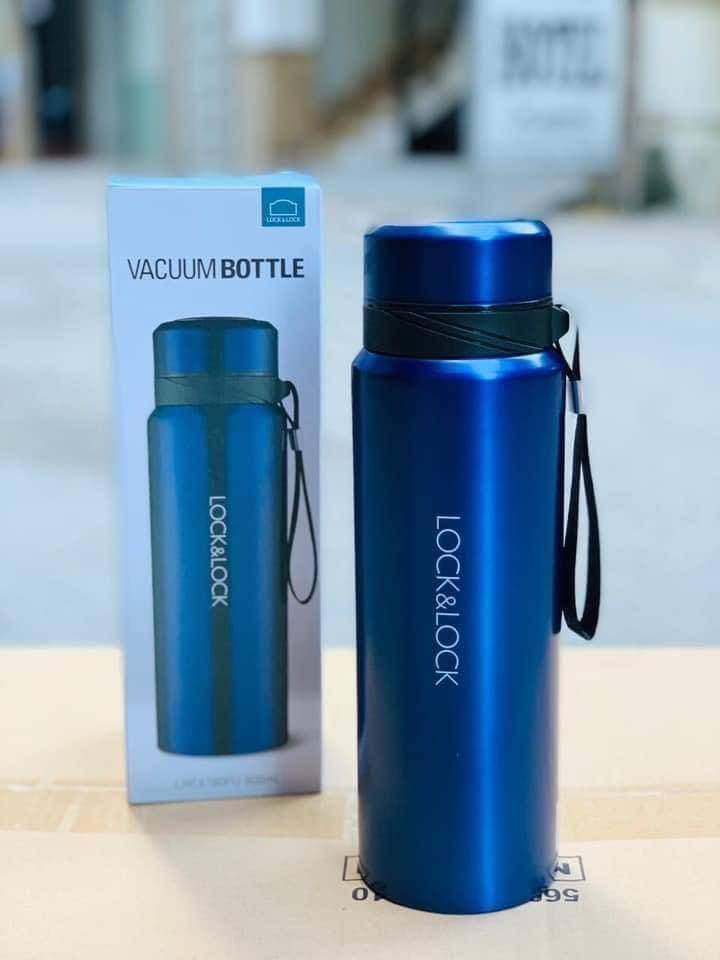bottle: (351, 220, 607, 917), (145, 313, 308, 757)
